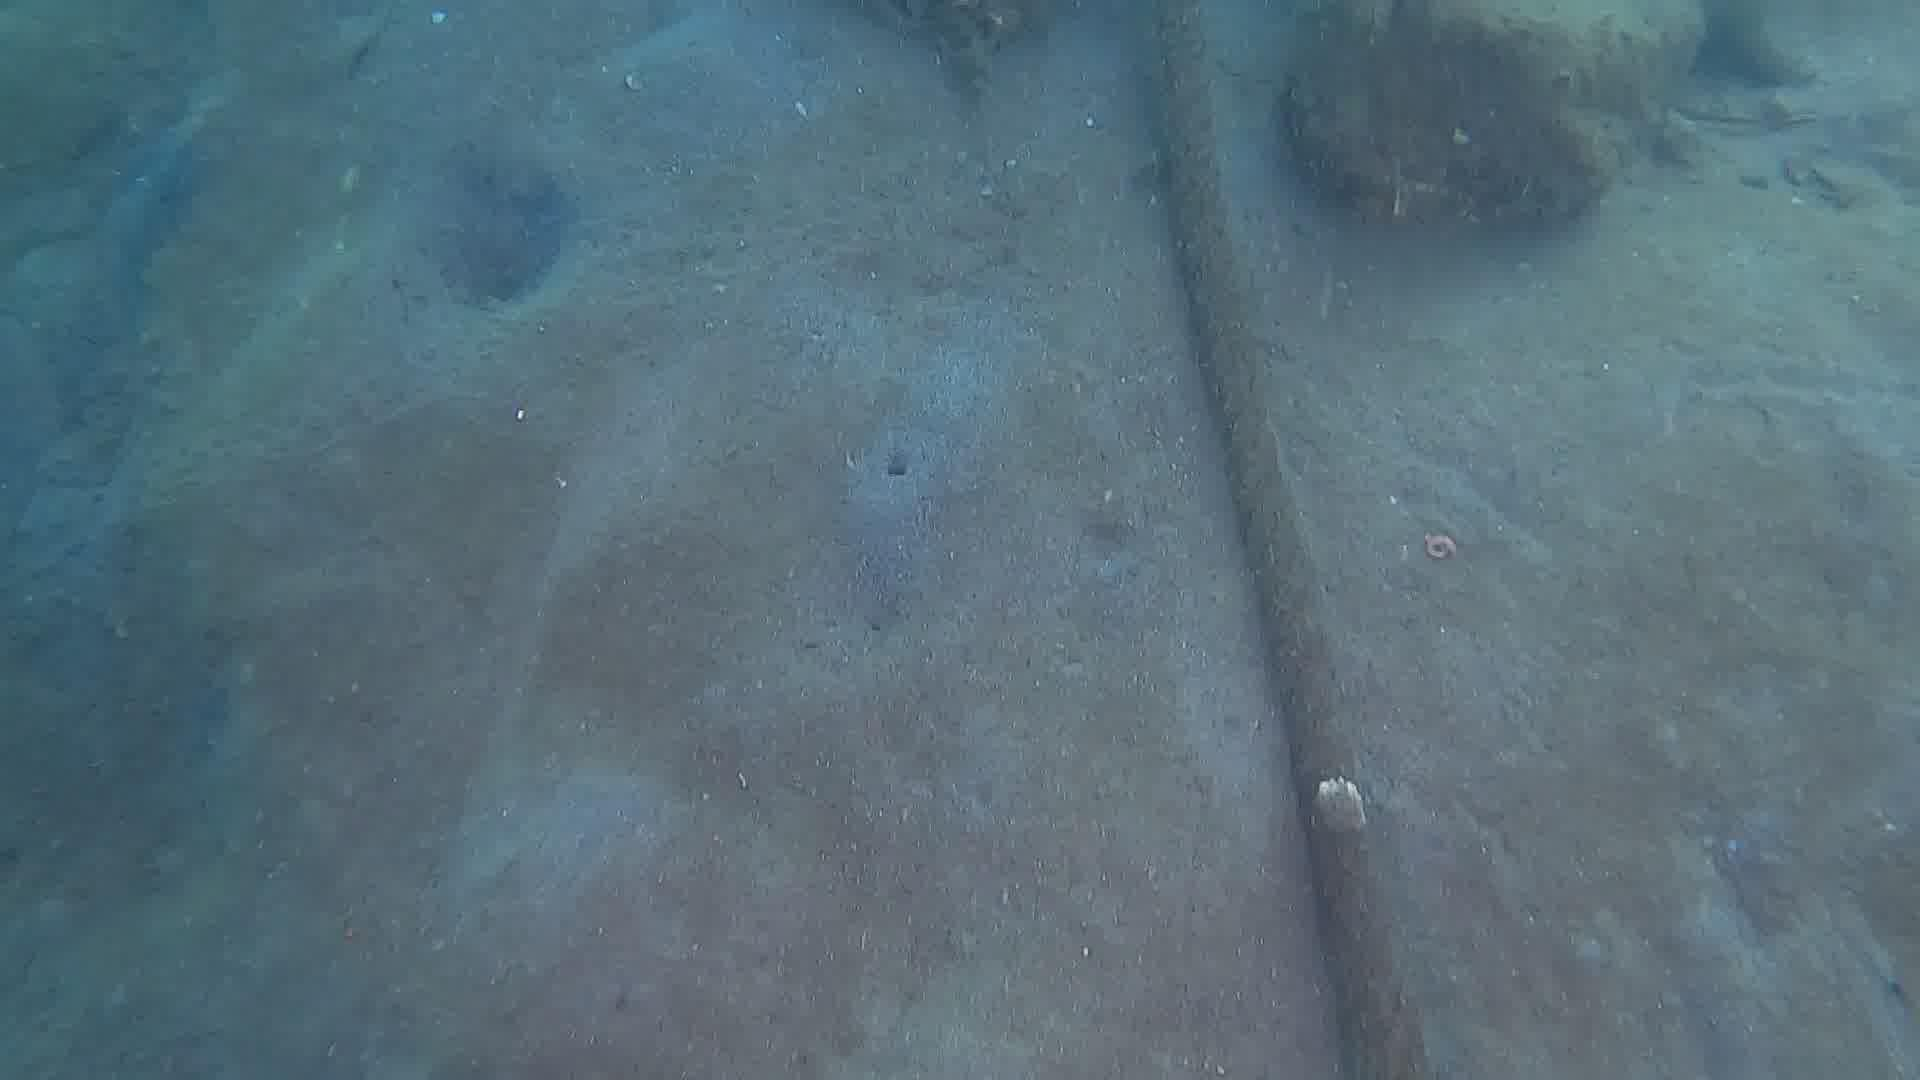rope: (1141, 0, 1437, 1080)
